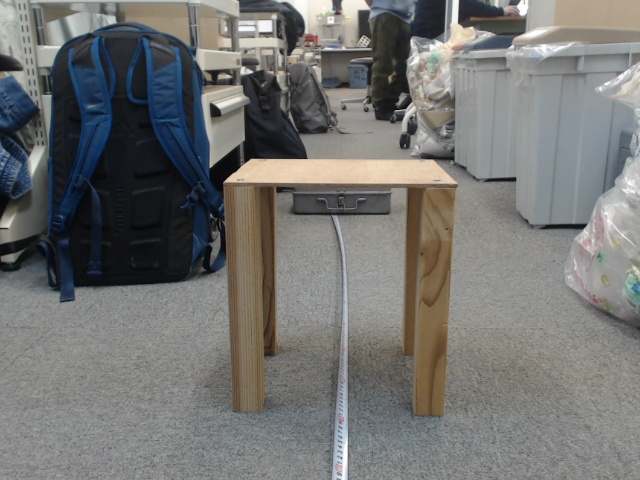desk: (314, 130, 544, 401)
